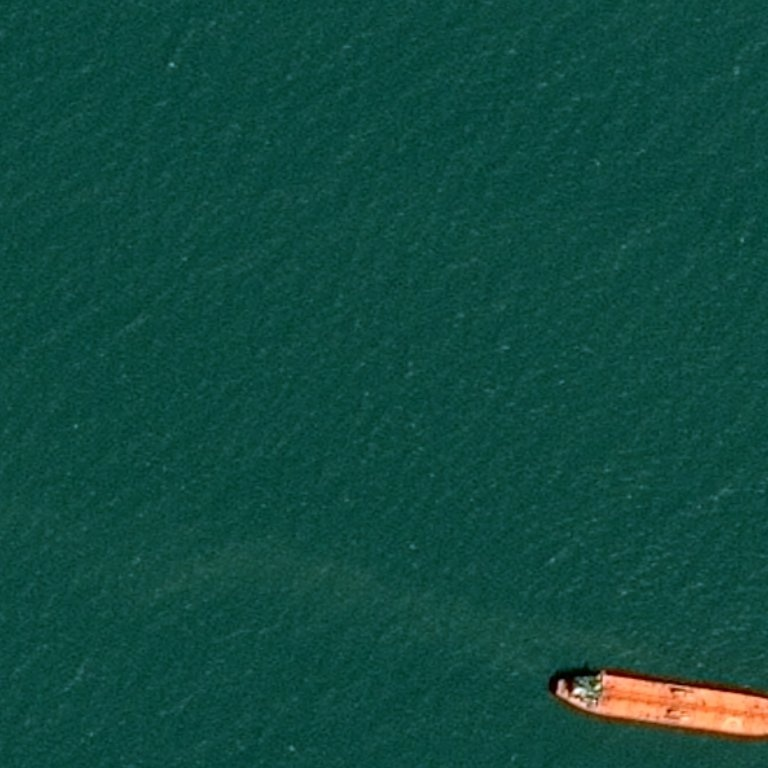ship: (551, 660, 767, 738)
